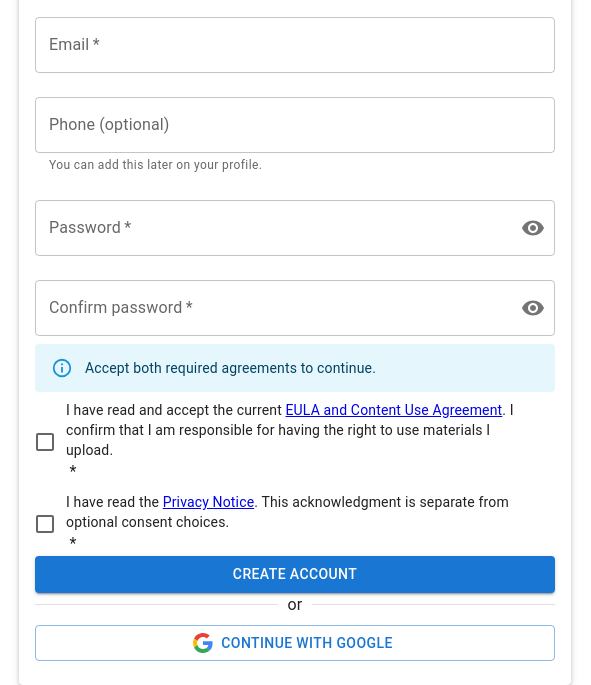
Test case: registration page › explains and validates the two required agreements instead of silently disabling signup
(page scrolled)
Expected: the text "Accept both required agreements to continue." is shown, x1=85 y1=360 x2=376 y2=376
Step 1. Click the button "Create account" → [295, 574], box x1=35 y1=556 x2=555 y2=592
(page scrolled)
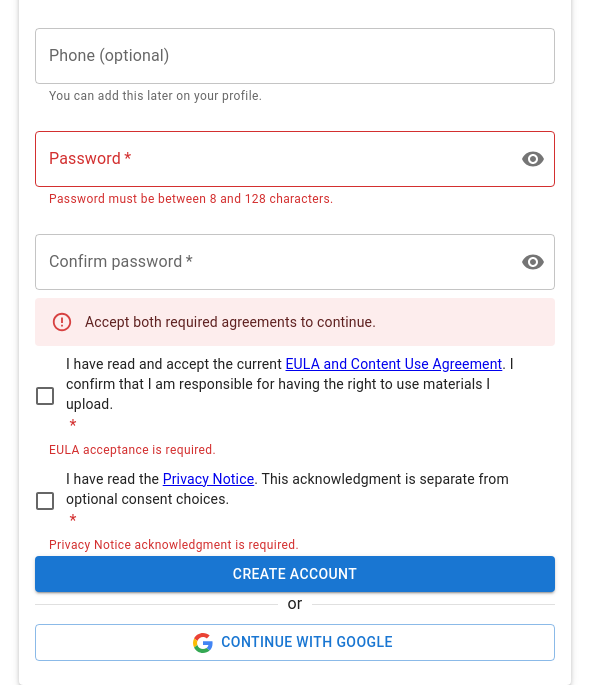
Now the text "EULA acceptance is required." is shown, box x1=49 y1=443 x2=216 y2=457
Now the text "Privacy Notice acknowledgment is required." is shown, box x1=49 y1=538 x2=299 y2=552
